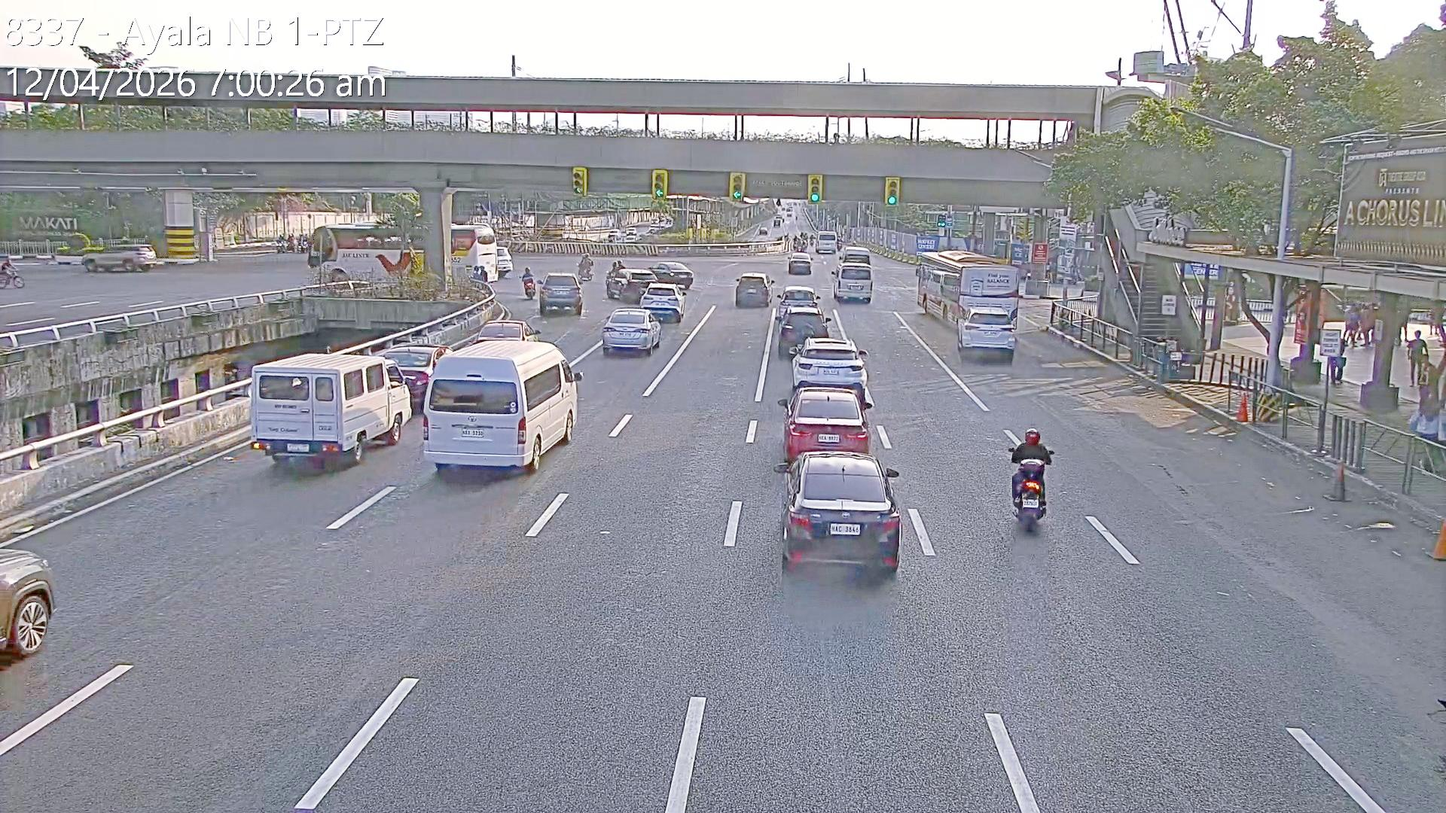Car: (421, 333, 590, 478), (242, 352, 413, 471), (775, 444, 909, 592), (773, 380, 876, 461), (0, 546, 56, 662), (790, 330, 879, 398), (382, 334, 455, 410), (956, 305, 1020, 371), (601, 303, 665, 358), (778, 301, 835, 360), (473, 315, 542, 358), (82, 245, 156, 274), (641, 278, 687, 322), (538, 273, 585, 315), (607, 268, 657, 304), (832, 263, 874, 303), (777, 284, 822, 320), (650, 262, 695, 291), (734, 273, 770, 308), (840, 245, 872, 271), (788, 250, 812, 276), (496, 246, 513, 277), (818, 241, 836, 255), (623, 234, 640, 244), (607, 229, 621, 241), (624, 225, 639, 236), (758, 226, 767, 236), (774, 217, 782, 227)
Motor: (998, 424, 1061, 535), (517, 264, 541, 298), (577, 251, 594, 281), (471, 264, 488, 287), (609, 260, 625, 282), (297, 235, 310, 255), (275, 238, 289, 254), (287, 233, 297, 253), (794, 238, 804, 252), (808, 232, 817, 247), (836, 233, 843, 251)
Not Accident: (252, 333, 591, 469), (772, 339, 906, 583), (919, 247, 1027, 373), (604, 260, 691, 358), (518, 245, 593, 320), (768, 286, 836, 361), (827, 233, 878, 305)
